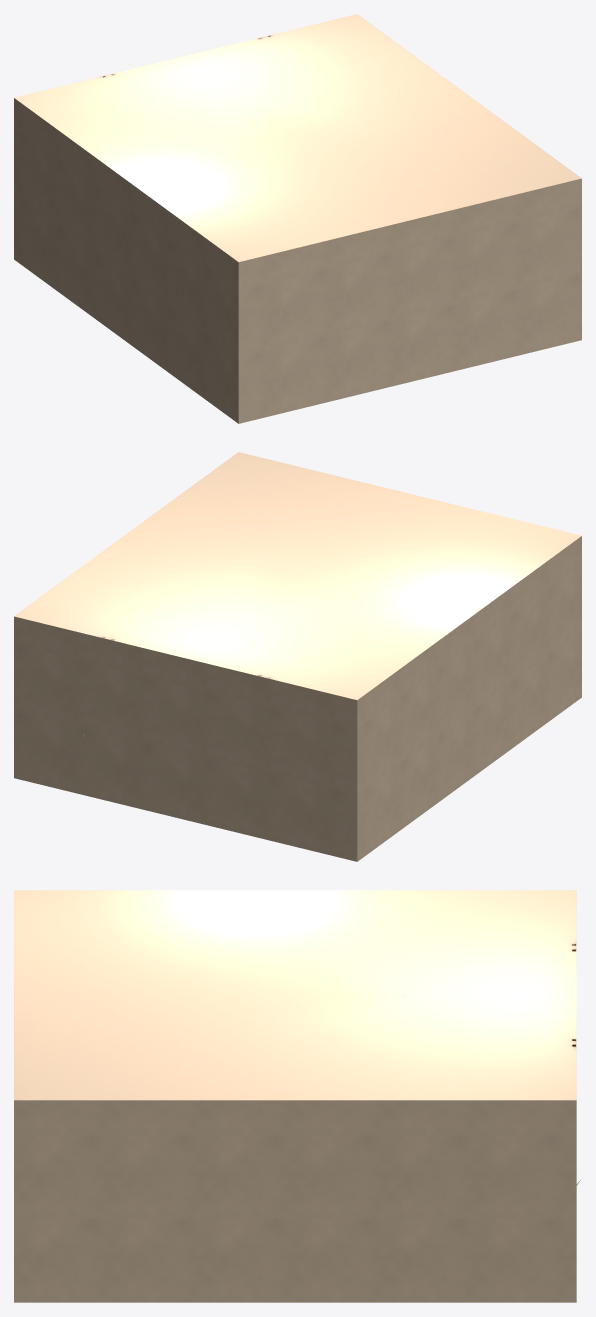
Rendered from spa_suite.glb.
3 renders of one model, top to bottom at view 1: azimuth 30°, elevation 25°; view 2: azimuth 150°, elevation 25°; view 3: azimuth 270°, elevation 25°, orthographic. The views are drawn at different scales.
Parts seen in each view (by area): view 1: ceiling, wall_front, wall_left; view 2: ceiling, wall_back, wall_left; view 3: ceiling, wall_right.
Boxes of the visible parts, x1=… form: ceiling: x1=14, y1=14, x2=581, y2=261; wall_front: x1=238, y1=178, x2=581, y2=423; wall_left: x1=14, y1=98, x2=238, y2=423; ceiling: x1=14, y1=452, x2=581, y2=699; wall_back: x1=14, y1=616, x2=357, y2=861; wall_left: x1=357, y1=536, x2=581, y2=861; ceiling: x1=14, y1=890, x2=576, y2=1100; wall_right: x1=14, y1=1100, x2=576, y2=1302.
Size of the model in its own units: 6 by 2.7 by 6.87.
Materials: 19 (9 with a texture image).
